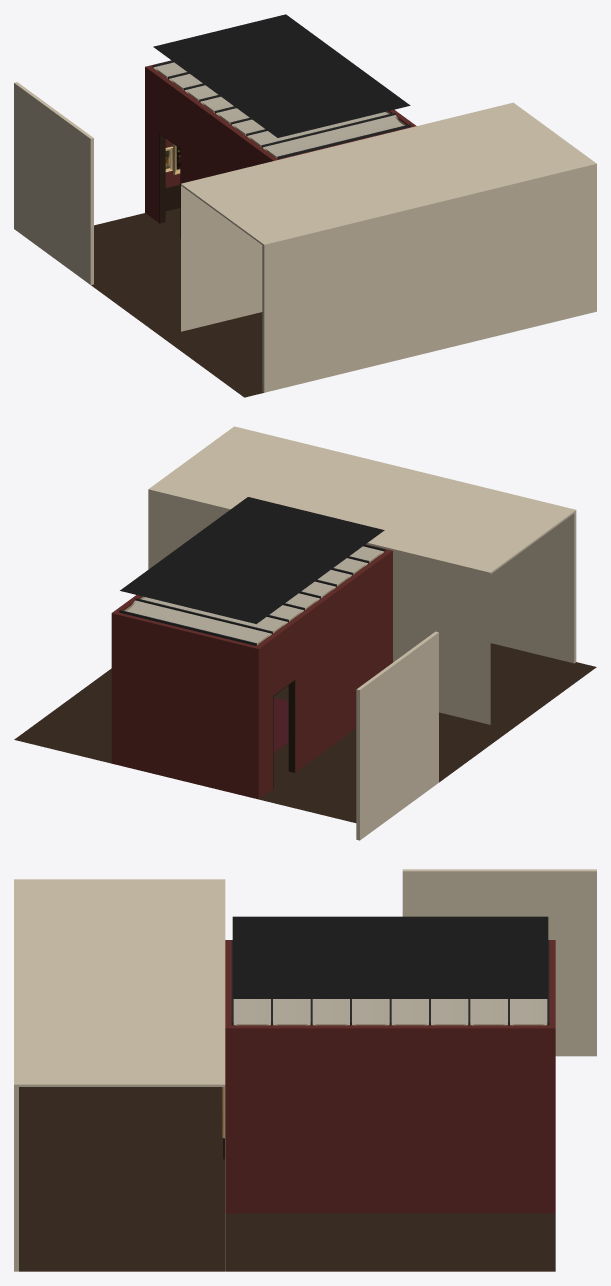
3 views of the same model, one above another, from view 1: azimuth 30°, elevation 25°; view 2: azimuth 150°, elevation 25°; view 3: azimuth 270°, elevation 25° (orthographic). The views are drawn at different scales.
Parts seen in each view (by area): view 1: room; view 2: room; view 3: room.
Boxes of the visible parts, bbox=[...] form: room: bbox=[14, 14, 596, 397]; room: bbox=[14, 426, 596, 840]; room: bbox=[14, 869, 596, 1271].
Bounding box in the file's own units: 10.6 × 4.8 × 12.
42 materials, 22 textured.
